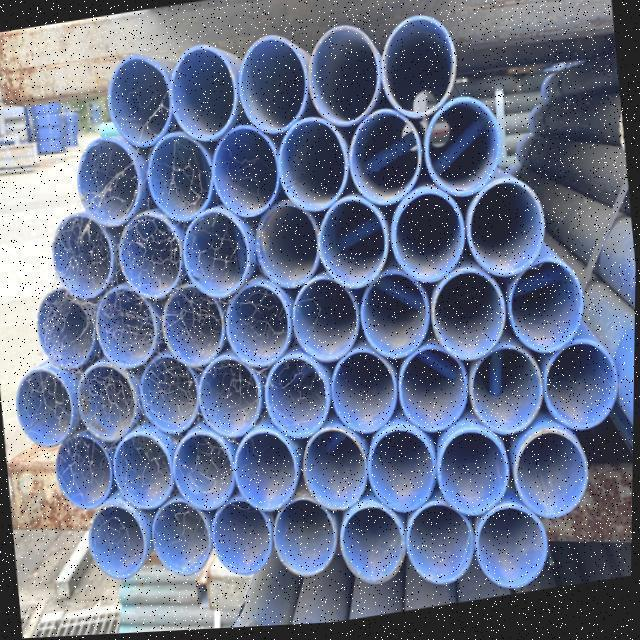pipe: (305, 28, 390, 131), (424, 100, 507, 203), (377, 20, 458, 125), (507, 261, 594, 357), (465, 181, 547, 282), (234, 36, 308, 137), (103, 57, 182, 151), (430, 272, 508, 365), (275, 118, 347, 217), (391, 192, 467, 285), (207, 125, 281, 220), (543, 343, 618, 436), (390, 350, 469, 438), (168, 47, 236, 149), (179, 210, 255, 301), (352, 112, 423, 209), (319, 198, 391, 291), (466, 348, 540, 438), (436, 430, 509, 520), (358, 274, 431, 362), (511, 430, 584, 518), (161, 284, 230, 375), (478, 506, 551, 592), (74, 138, 142, 230), (263, 355, 335, 441), (291, 279, 361, 366), (252, 202, 320, 291), (116, 212, 183, 302), (332, 350, 399, 439), (145, 134, 212, 222), (226, 284, 297, 367), (366, 432, 436, 516), (50, 212, 115, 301), (228, 433, 294, 519), (407, 510, 477, 591), (303, 429, 370, 513), (272, 501, 341, 581), (339, 506, 408, 586), (169, 432, 234, 515), (201, 355, 266, 437), (96, 284, 157, 369), (110, 432, 174, 513), (78, 362, 139, 445), (138, 353, 200, 434), (16, 364, 74, 450), (213, 500, 275, 580), (148, 502, 212, 579), (35, 291, 95, 373), (54, 432, 112, 513), (84, 503, 144, 580)
